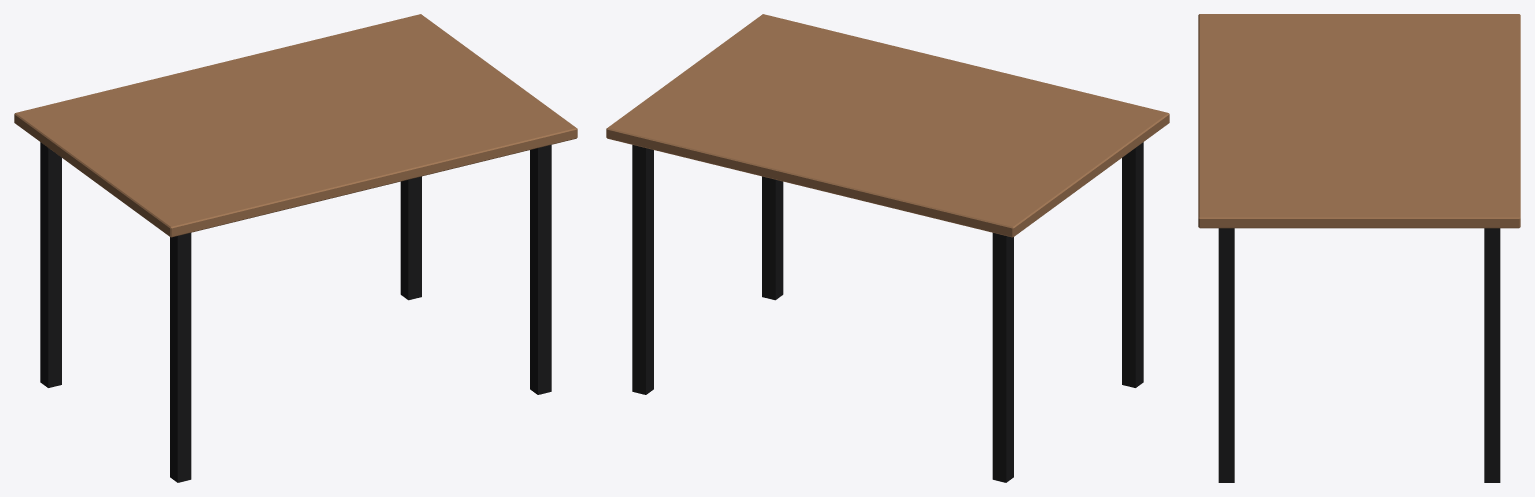
Rendered from 41_stol_120.glb.
The picture shows the model from 3 angles, left to right: view 1: azimuth 30°, elevation 25°; view 2: azimuth 150°, elevation 25°; view 3: azimuth 270°, elevation 25°; orthographic projection. The views are drawn at different scales.
Visible parts, largest first — view 1: Stol_blat, Stol_nogi; view 2: Stol_blat, Stol_nogi; view 3: Stol_blat, Stol_nogi.
Boxes of the visible parts, left/top/right/bottom form: Stol_blat: left=14, top=14, right=577, bottom=237; Stol_nogi: left=40, top=142, right=551, bottom=482; Stol_blat: left=606, top=14, right=1169, bottom=237; Stol_nogi: left=632, top=142, right=1143, bottom=482; Stol_blat: left=1198, top=14, right=1520, bottom=228; Stol_nogi: left=1218, top=228, right=1500, bottom=482.
Size of the model in its own units: 1.2 by 0.75 by 0.8.
